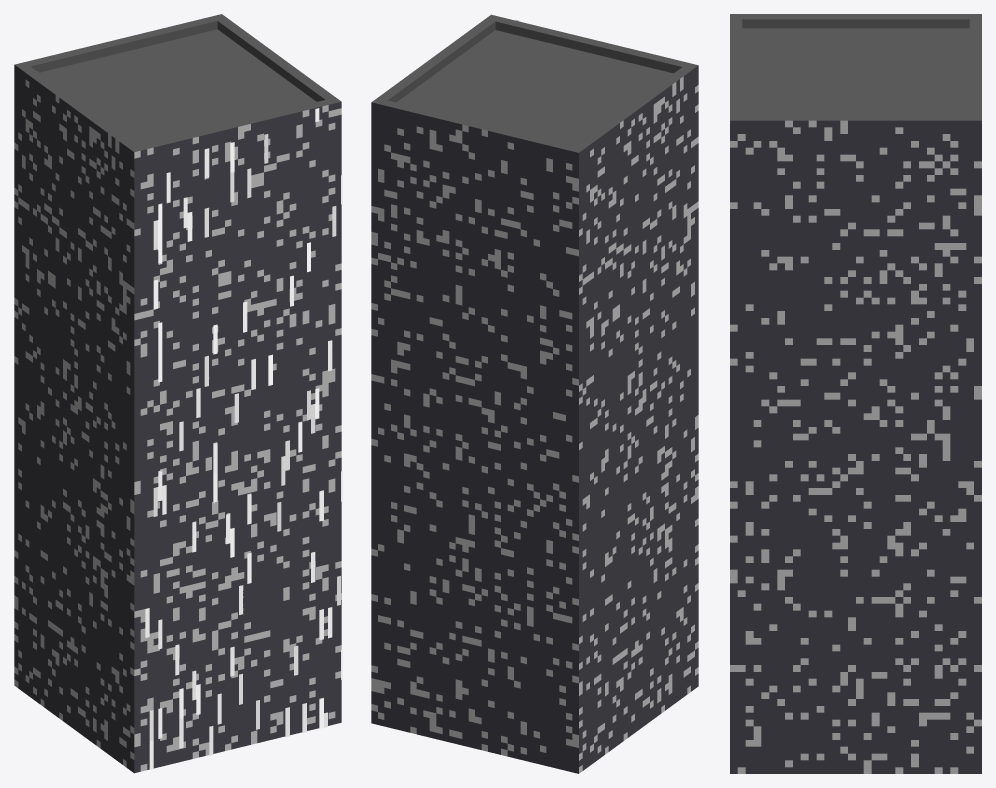
The model's file is BILD.glb.
3 renders of one model, left to right at view 1: azimuth 30°, elevation 25°; view 2: azimuth 150°, elevation 25°; view 3: azimuth 270°, elevation 25°, orthographic. The views are drawn at different scales.
Parts seen in each view (by area): view 1: Cube.001, Plane; view 2: Cube.001; view 3: Cube.001.
Boxes of the visible parts, box(x1,y1,x2,y2) form: Cube.001: box(14, 14, 341, 773); Plane: box(145, 108, 342, 770); Cube.001: box(371, 14, 698, 773); Cube.001: box(730, 14, 981, 773).
Size of the model in its own units: 2 by 5.72 by 2.02.
Materials: 2 (1 with a texture image).
